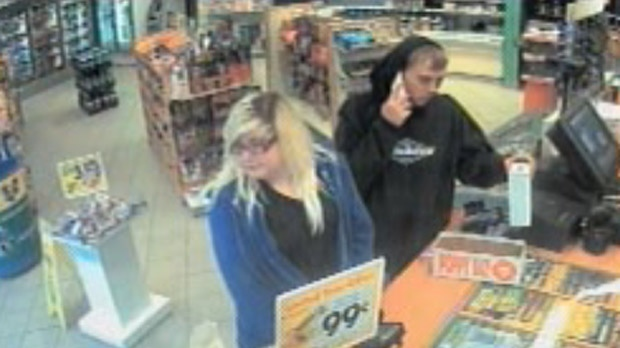Person: (200, 87, 385, 347), (332, 34, 539, 263)
